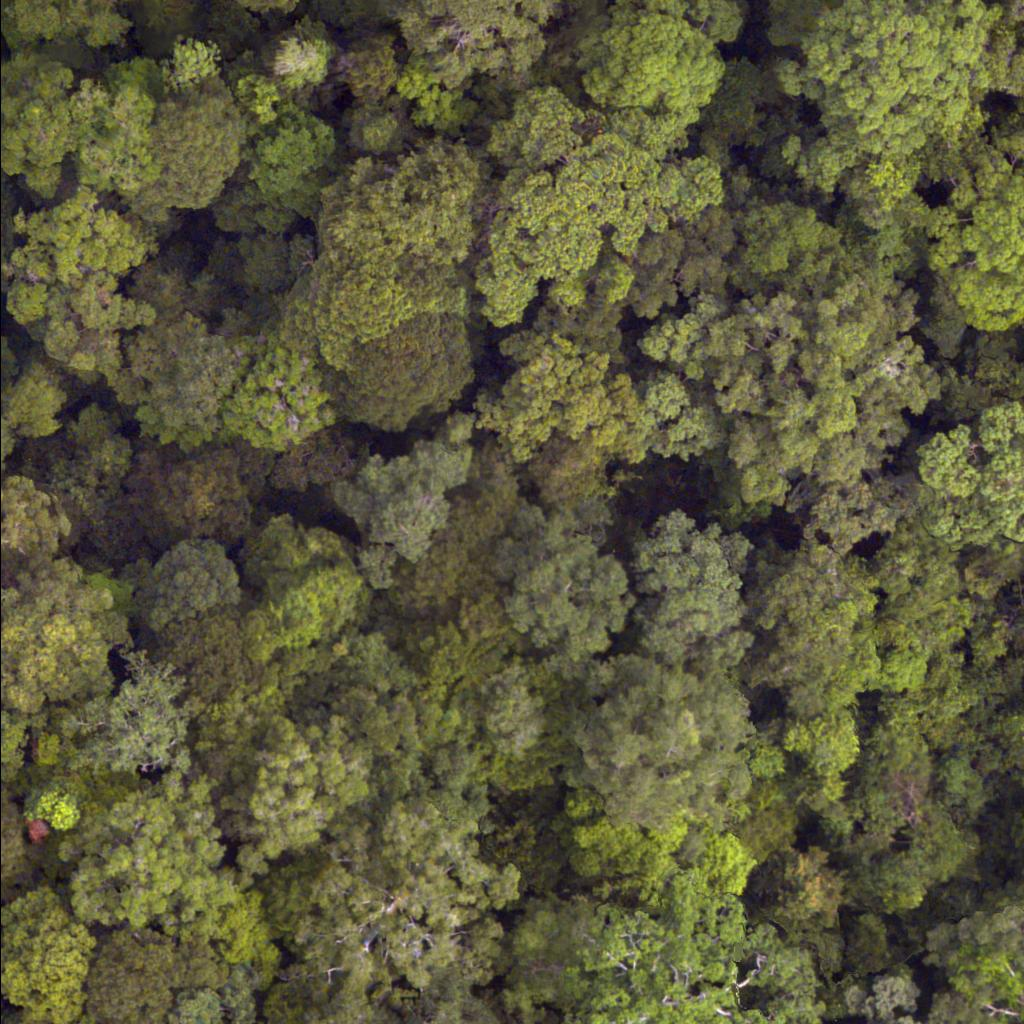crown: (634, 268, 928, 536), (476, 89, 726, 325), (275, 143, 474, 370), (777, 0, 1013, 184), (3, 188, 161, 374), (473, 330, 657, 459), (340, 436, 472, 601), (391, 471, 526, 631), (570, 0, 735, 122), (483, 502, 635, 632), (20, 410, 148, 563), (108, 311, 252, 447), (636, 509, 756, 667), (326, 318, 473, 427), (221, 107, 341, 237), (748, 543, 882, 654), (917, 408, 1023, 543), (220, 324, 338, 445), (624, 215, 759, 318), (0, 54, 91, 203), (153, 68, 244, 213), (244, 522, 367, 629), (152, 446, 271, 548), (0, 462, 72, 628), (71, 58, 152, 203), (733, 203, 855, 298), (129, 540, 241, 627), (0, 0, 129, 52), (395, 52, 476, 131), (530, 442, 615, 514), (759, 0, 841, 45), (126, 261, 187, 319), (238, 232, 293, 295), (354, 100, 409, 158), (577, 296, 621, 352), (223, 0, 325, 22), (182, 271, 223, 317), (0, 177, 16, 224), (0, 32, 7, 68)
